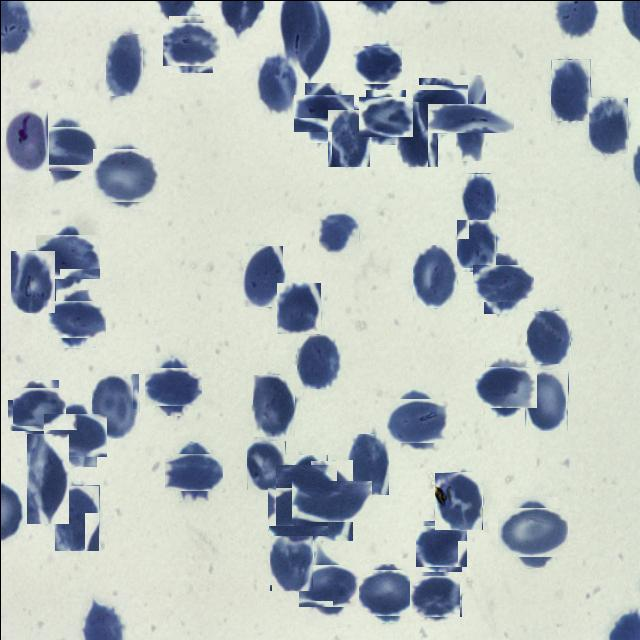red blood cell: (26, 433, 68, 523), (300, 470, 362, 530), (502, 502, 562, 562), (96, 144, 156, 204), (441, 88, 499, 146), (90, 372, 138, 438), (391, 393, 445, 448), (40, 229, 94, 284), (54, 484, 99, 550), (38, 121, 92, 175), (270, 484, 324, 538), (47, 408, 101, 461), (4, 107, 48, 172), (10, 249, 55, 312), (434, 471, 482, 529), (412, 244, 456, 307), (361, 566, 414, 618), (280, 458, 332, 511), (524, 368, 568, 430), (396, 100, 437, 166), (479, 360, 531, 412), (164, 18, 216, 69), (252, 373, 294, 436), (346, 434, 388, 496), (11, 383, 62, 434), (302, 560, 353, 611), (269, 533, 313, 590), (414, 80, 464, 130), (327, 108, 370, 166), (550, 58, 590, 120), (477, 258, 527, 307), (242, 245, 282, 306), (298, 88, 348, 136), (105, 32, 143, 95), (526, 310, 570, 363), (52, 294, 100, 342), (149, 362, 197, 410), (169, 447, 217, 495), (588, 96, 628, 153), (296, 334, 338, 388), (276, 282, 320, 333), (256, 55, 296, 111), (416, 522, 464, 568), (362, 93, 408, 140), (456, 218, 496, 271), (412, 572, 458, 618), (355, 42, 399, 86), (246, 440, 285, 489), (460, 172, 496, 223), (318, 212, 359, 253)
